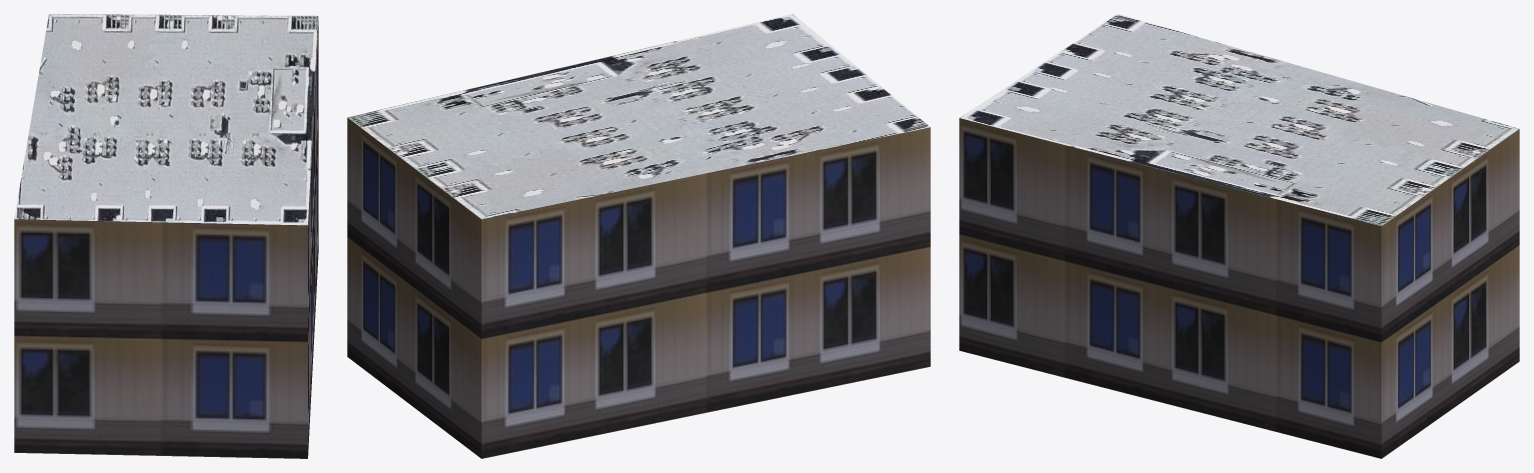
The model's file is ResTex__3281.fbx.
3 views of the same model, side by side, from view 1: azimuth 30°, elevation 25°; view 2: azimuth 150°, elevation 25°; view 3: azimuth 270°, elevation 25° (orthographic). The views are drawn at different scales.
Visible parts, largest first — view 1: CityEngineMaterial_5_m, CityEngineMaterial_2_m; view 2: CityEngineMaterial_5_m, CityEngineMaterial_2_m; view 3: CityEngineMaterial_5_m, CityEngineMaterial_2_m.
Part boxes in pixels (left/top/right/bottom): CityEngineMaterial_5_m: left=14, top=20, right=318, bottom=458; CityEngineMaterial_2_m: left=14, top=14, right=318, bottom=225; CityEngineMaterial_5_m: left=347, top=117, right=930, bottom=458; CityEngineMaterial_2_m: left=347, top=14, right=930, bottom=219; CityEngineMaterial_5_m: left=959, top=118, right=1519, bottom=458; CityEngineMaterial_2_m: left=960, top=14, right=1519, bottom=226.
Size of the model in its own units: 11.74 by 6 by 13.1.
2 materials, 2 textured.
